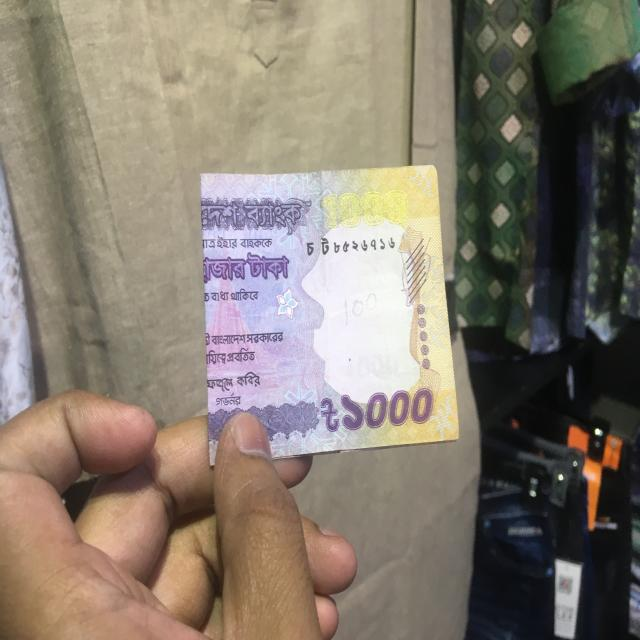Taka: (199, 163, 464, 455)
